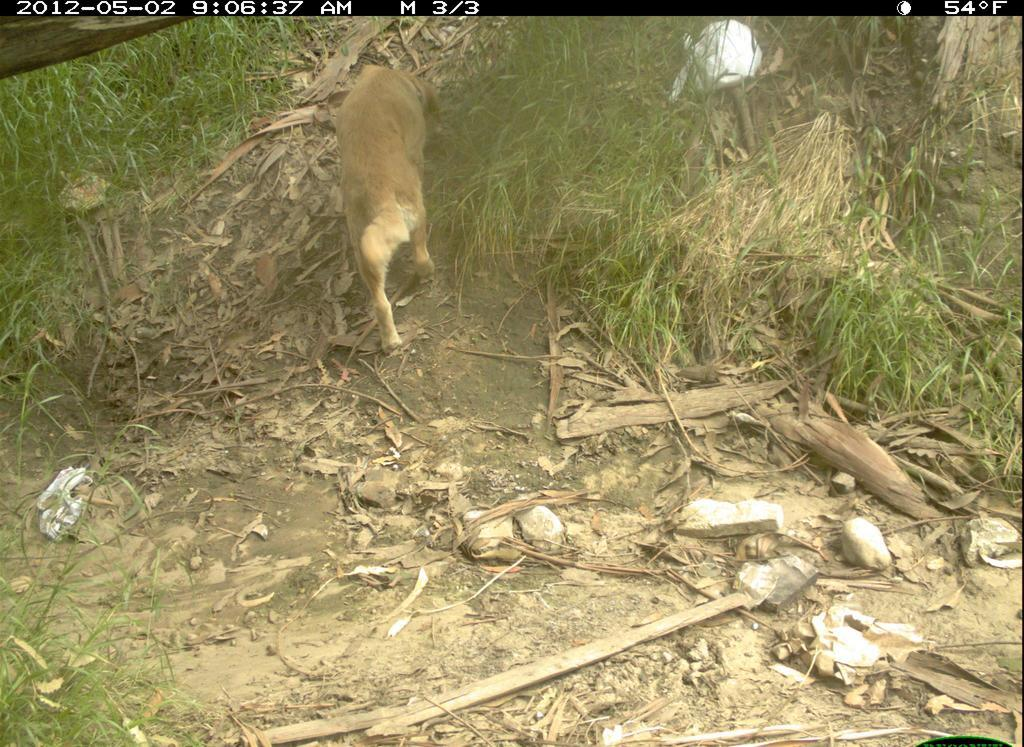dog: (337, 58, 468, 368)
